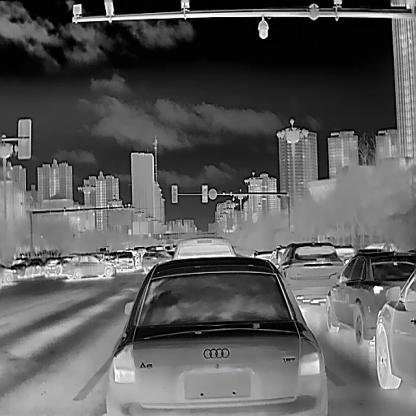car: (104, 256, 327, 415), (323, 247, 415, 346), (373, 271, 415, 389), (274, 240, 344, 294), (172, 236, 236, 259), (62, 252, 116, 278), (140, 249, 169, 272), (113, 250, 135, 272), (11, 256, 33, 275), (0, 264, 17, 284), (45, 256, 60, 276)
